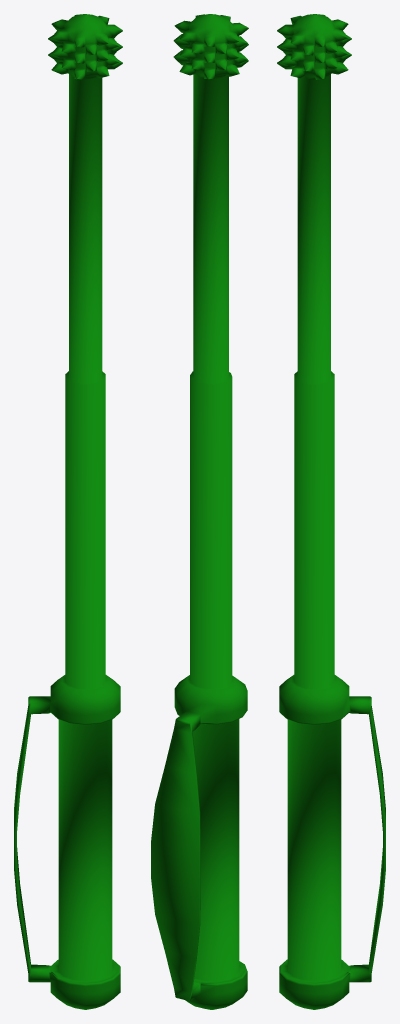
File: StunBaton.obj
3 renders of one model, left to right at view 1: azimuth 90°, elevation 25°; view 2: azimuth 150°, elevation 25°; view 3: azimuth 270°, elevation 25°, orthographic.
Visible parts, largest first — view 1: Cylinder001; view 2: Cylinder001; view 3: Cylinder001.
Boxes of the visible parts, x1,y1,x2,y2 form: Cylinder001: [14, 14, 122, 1009]; Cylinder001: [151, 14, 248, 1009]; Cylinder001: [277, 14, 385, 1009].
Size of the model in its own units: 3.35 by 49.03 by 4.88.
